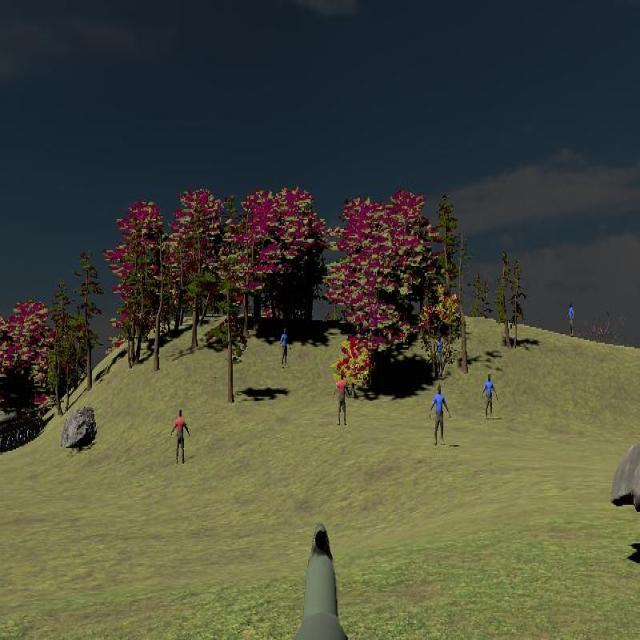Human: (430, 385, 450, 446), (170, 408, 190, 465), (333, 370, 351, 426), (482, 373, 498, 421)
Tank: (0, 400, 52, 455)
